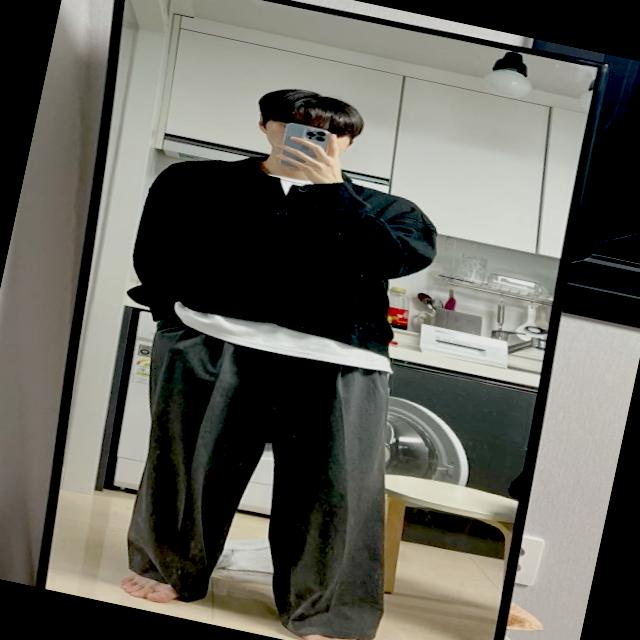cardigan: (128, 128, 446, 371)
slacks: (93, 311, 437, 640)
